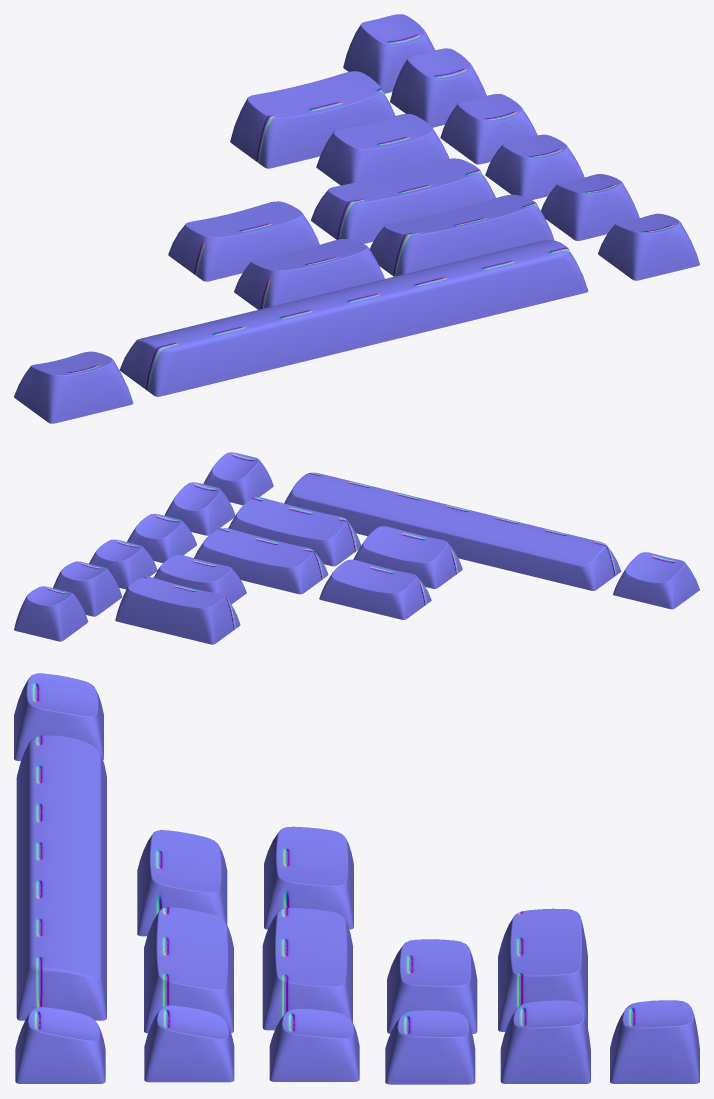
Rendered from keycaps.glb.
3 renders of one model, top to bottom at view 1: azimuth 30°, elevation 25°; view 2: azimuth 150°, elevation 25°; view 3: azimuth 270°, elevation 25°, orthographic. The views are drawn at different scales.
Visible parts, largest first — view 1: r6_space, r2_backspace, r5_lshift, r4_enter, r4_capslock, r5_rshift, r3_tab, r6_meta, r2, r6, r5, r4 (+2 smaller); view 2: r6_space, r2_backspace, r4_enter, r5_lshift, r4_capslock, r5_rshift, r6_meta, r1, r5, r3_tab, r6, r2 (+2 smaller); view 3: r6_space, r4_enter, r5_lshift, r2_backspace, r4_capslock, r5_rshift, r2, r1, r3_tab, r5, r3, r6 (+2 smaller).
Boxes of the visible parts, bbox=[...] form: r6_space: bbox=[119, 240, 588, 396]; r2_backspace: bbox=[230, 71, 395, 168]; r5_lshift: bbox=[370, 194, 554, 276]; r4_enter: bbox=[311, 158, 495, 243]; r4_capslock: bbox=[168, 201, 319, 281]; r5_rshift: bbox=[234, 239, 384, 309]; r3_tab: bbox=[316, 113, 449, 185]; r6_meta: bbox=[14, 351, 133, 423]; r2: bbox=[390, 48, 486, 127]; r6: bbox=[598, 213, 699, 280]; r5: bbox=[541, 174, 639, 240]; r4: bbox=[485, 134, 584, 199]; r6_space: bbox=[284, 472, 621, 590]; r2_backspace: bbox=[115, 576, 240, 644]; r4_enter: bbox=[194, 528, 328, 594]; r5_lshift: bbox=[228, 497, 361, 566]; r4_capslock: bbox=[319, 559, 431, 619]; r5_rshift: bbox=[353, 526, 462, 588]; r6_meta: bbox=[613, 552, 699, 609]; r1: bbox=[14, 586, 88, 641]; r5: bbox=[164, 482, 235, 535]; r3_tab: bbox=[153, 555, 246, 604]; r6: bbox=[203, 452, 273, 505]; r2: bbox=[53, 561, 122, 616]; r6_space: bbox=[16, 735, 106, 1020]; r4_enter: bbox=[262, 907, 352, 1030]; r5_lshift: bbox=[144, 907, 233, 1033]; r2_backspace: bbox=[498, 908, 587, 1031]; r4_capslock: bbox=[264, 826, 353, 929]; r5_rshift: bbox=[137, 830, 227, 936]; r2: bbox=[500, 1000, 590, 1083]; r1: bbox=[610, 1000, 699, 1083]; r3_tab: bbox=[387, 939, 477, 1034]; r5: bbox=[144, 1005, 234, 1082]; r3: bbox=[385, 1010, 475, 1084]; r6: bbox=[15, 1007, 105, 1083].
Bounding box in the file's own units: 17.76 × 1.15 × 13.86.
1 material, 1 textured.
